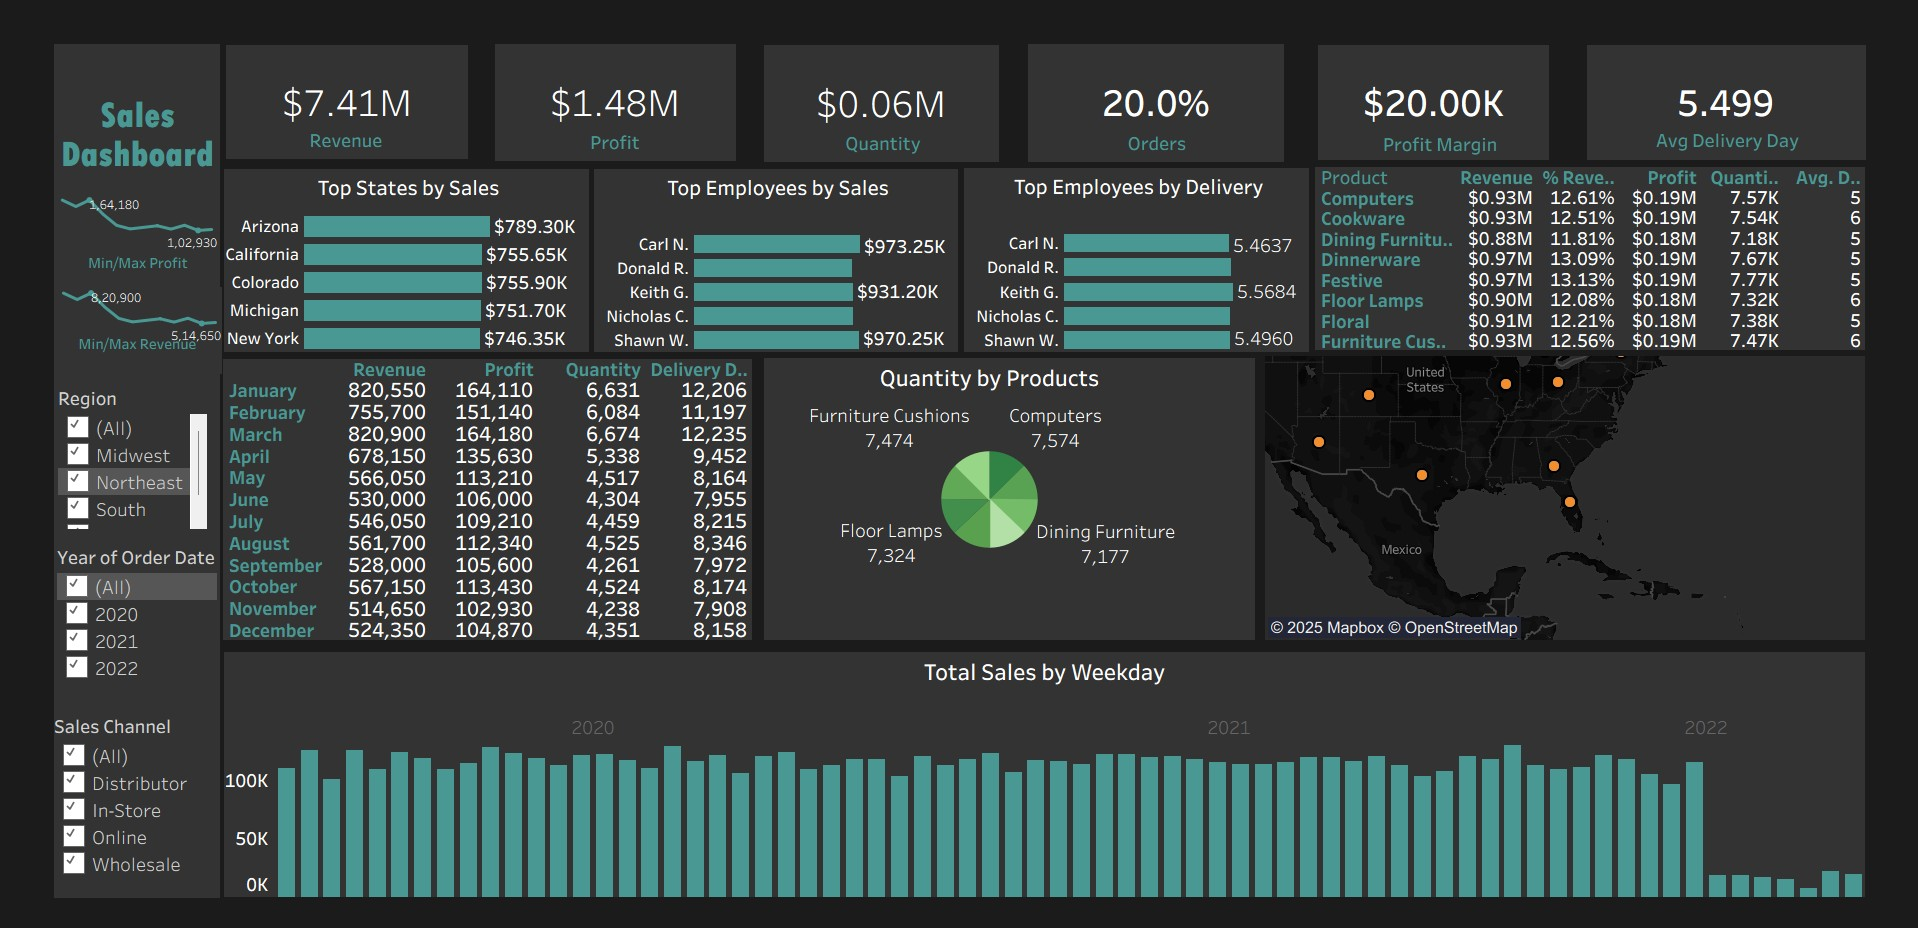

What the dashboard file says about the page in this screenshot:
{"tool":"tableau","page":{"name":"Dashboard 1","canvas":[1000,1000],"units":"permille","ordinal":0},"visuals":[{"type":"blank","box":[2.8,1.4,91.2,993.1]},{"type":"worksheet","title":"Ttl Profit","mark":"Automatic","box":[245.1,1.4,132.4,135.6]},{"type":"worksheet","title":"Promar","mark":"Automatic","box":[537.9,1.4,140.7,137]},{"type":"worksheet","title":"Ttl sales","mark":"Automatic","box":[97.2,2.7,133,132.9]},{"type":"worksheet","title":"Ttl Qty ","mark":"Automatic","box":[392.9,2.7,129.1,135.6]},{"type":"worksheet","title":"Ttl or","mark":"Automatic","box":[697.2,2.7,126.9,134.2]},{"type":"worksheet","title":"Avg Dd","mark":"Automatic","box":[845.1,2.7,153.3,134.2]},{"type":"text","box":[3.9,13.4,89.6,186.1]},{"type":"text","box":[134.6,95.9,57.1,34.2]},{"type":"text","box":[870.9,95.9,102.8,34.2]},{"type":"text","box":[282.4,97.3,57.1,34.2]},{"type":"text","box":[429.7,98.6,57.1,34.2]},{"type":"text","box":[580.2,98.6,57.1,34.2]},{"type":"text","box":[730.8,100,65.9,34.2]},{"type":"worksheet","title":"Product Table","mark":"Automatic","rows":["Product"],"box":[695.6,143.8,302.2,213.7]},{"type":"worksheet","title":"Tp Emp by Del","mark":"Automatic","rows":["Employee"],"cols":["DeliveryDays"],"box":[502.8,145.2,189.6,213.7]},{"type":"worksheet","title":"Tp st by sales","mark":"Automatic","rows":["State"],"cols":["Sales"],"box":[96.2,146.6,200.6,212.3]},{"type":"worksheet","title":"Tp Emp by Sales","mark":"Automatic","rows":["Employee"],"cols":["Sales"],"box":[299.4,146.6,200,212.3]},{"type":"worksheet","title":"Sparkline Profit","mark":"Automatic","rows":["Profit"],"cols":["OrderDate"],"box":[3.3,175.4,89.6,101.7]},{"type":"text","box":[5,238.3,87.9,33.5]},{"type":"worksheet","title":"Sparkline Sale","mark":"Automatic","rows":["Sales"],"cols":["OrderDate"],"box":[3.9,283.8,91.2,101.7]},{"type":"text","box":[3.3,332,90.7,33.5]},{"type":"worksheet","title":"Map","mark":"Automatic","box":[668.1,364.4,329.7,330.1]},{"type":"worksheet","title":"Quantity by product","mark":"Pie","box":[392.9,365.8,269.8,328.8]},{"type":"worksheet","title":"Month Detail","mark":"Automatic","rows":["OrderDate"],"box":[95.6,367.1,290.7,327.4]},{"type":"filter","title":"Ttl sale by wekda","param":"[federated.1t798bl0yok90n0zqfj320qhgra9].[none:Region:nk]","box":[5,397.6,81.9,167.3]},{"type":"filter","title":"Ttl sale by wekda","param":"[federated.1t798bl0yok90n0zqfj320qhgra9].[yr:OrderDate:ok]","box":[4.4,582.3,87.9,182.1]},{"type":"worksheet","title":"Ttl sale by wekda","mark":"Bar","rows":["Sales"],"cols":["OrderDate","OrderDate","OrderDate"],"box":[96.2,708.2,901.6,284.9]},{"type":"filter","title":"Ttl sale by wekda","param":"[federated.1t798bl0yok90n0zqfj320qhgra9].[none:SalesChannel:nk]","box":[2.8,779.1,87.9,206.2]}]}

Visuals, with their boxes on the dashboard's canvas, which has no fixed pixel size, in thousandths of its width and height (x1, y1, x2, y2). These are canvas units, not pixel positions in the 1918x928 screenshot, which may show the page scaled, cropped or inside an application window:
blank: {"left": 3, "top": 1, "right": 94, "bottom": 994}
"Ttl Profit" worksheet: {"left": 245, "top": 1, "right": 378, "bottom": 137}
"Promar" worksheet: {"left": 538, "top": 1, "right": 679, "bottom": 138}
"Ttl sales" worksheet: {"left": 97, "top": 3, "right": 230, "bottom": 136}
"Ttl Qty " worksheet: {"left": 393, "top": 3, "right": 522, "bottom": 138}
"Ttl or" worksheet: {"left": 697, "top": 3, "right": 824, "bottom": 137}
"Avg Dd" worksheet: {"left": 845, "top": 3, "right": 998, "bottom": 137}
text: {"left": 4, "top": 13, "right": 94, "bottom": 200}
text: {"left": 135, "top": 96, "right": 192, "bottom": 130}
text: {"left": 871, "top": 96, "right": 974, "bottom": 130}
text: {"left": 282, "top": 97, "right": 340, "bottom": 132}
text: {"left": 430, "top": 99, "right": 487, "bottom": 133}
text: {"left": 580, "top": 99, "right": 637, "bottom": 133}
text: {"left": 731, "top": 100, "right": 797, "bottom": 134}
"Product Table" worksheet: {"left": 696, "top": 144, "right": 998, "bottom": 358}
"Tp Emp by Del" worksheet: {"left": 503, "top": 145, "right": 692, "bottom": 359}
"Tp st by sales" worksheet: {"left": 96, "top": 147, "right": 297, "bottom": 359}
"Tp Emp by Sales" worksheet: {"left": 299, "top": 147, "right": 499, "bottom": 359}
"Sparkline Profit" worksheet: {"left": 3, "top": 175, "right": 93, "bottom": 277}
text: {"left": 5, "top": 238, "right": 93, "bottom": 272}
"Sparkline Sale" worksheet: {"left": 4, "top": 284, "right": 95, "bottom": 386}
text: {"left": 3, "top": 332, "right": 94, "bottom": 366}
"Map" worksheet: {"left": 668, "top": 364, "right": 998, "bottom": 694}
"Quantity by product" worksheet (Pie marks): {"left": 393, "top": 366, "right": 663, "bottom": 695}
"Month Detail" worksheet: {"left": 96, "top": 367, "right": 386, "bottom": 694}
"Ttl sale by wekda" filter: {"left": 5, "top": 398, "right": 87, "bottom": 565}
"Ttl sale by wekda" filter: {"left": 4, "top": 582, "right": 92, "bottom": 764}
"Ttl sale by wekda" worksheet (Bar marks): {"left": 96, "top": 708, "right": 998, "bottom": 993}
"Ttl sale by wekda" filter: {"left": 3, "top": 779, "right": 91, "bottom": 985}
